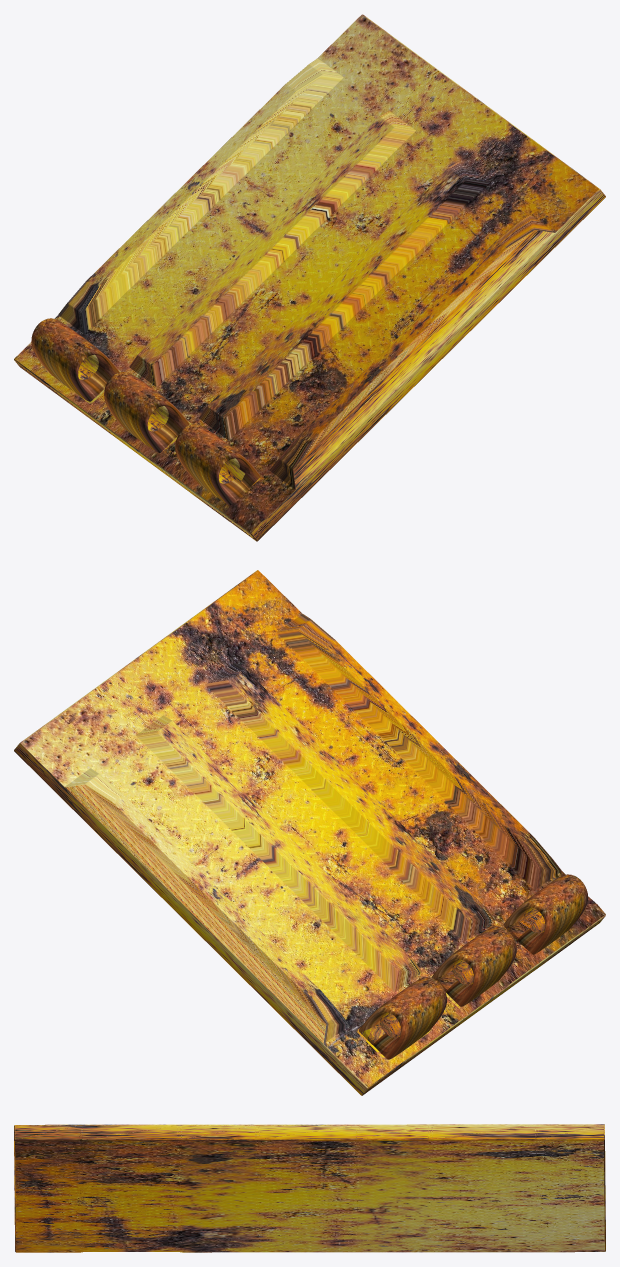
The model's file is puertaizq.obj.
The picture shows the model from 3 angles, top to bottom: view 1: azimuth 30°, elevation 25°; view 2: azimuth 150°, elevation 25°; view 3: azimuth 270°, elevation 25°; orthographic projection. The views are drawn at different scales.
Parts seen in each view (by area): view 1: Box003; view 2: Box003; view 3: Box003.
Boxes of the visible parts, box(x1,y1,x2,y2) form: Box003: box(14, 14, 605, 541); Box003: box(14, 570, 605, 1095); Box003: box(14, 1124, 605, 1252).
Size of the model in its own units: 29.39 by 20.77 by 33.25.
Materials: 1 (1 with a texture image).
